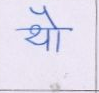au_matra: (40, 6, 65, 51)
